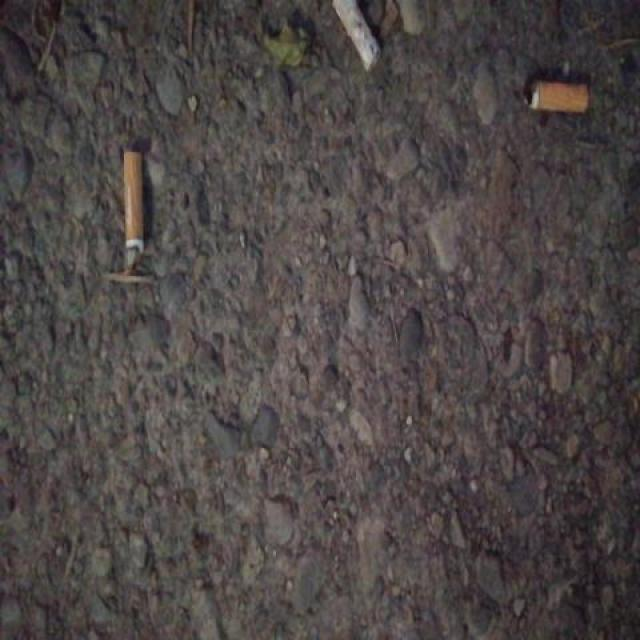non-organic waste: (326, 1, 390, 76), (119, 143, 150, 277), (521, 72, 595, 120)
